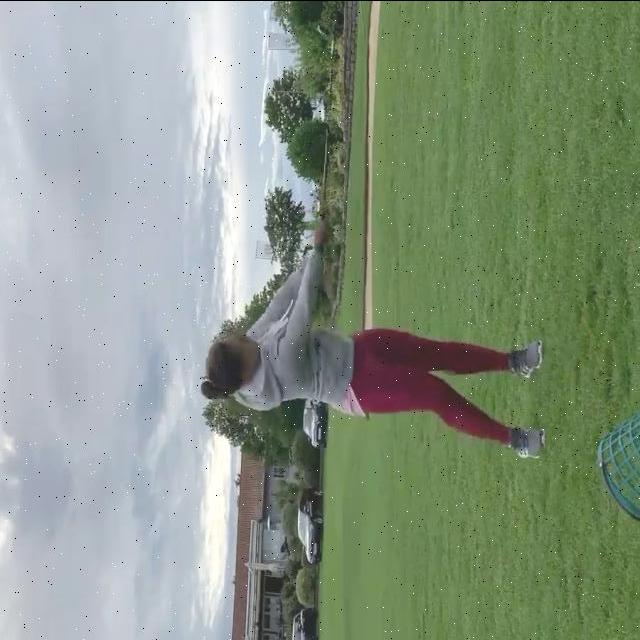ClubHandle: (316, 0, 343, 220)
